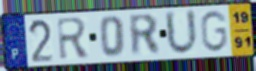0: (98, 14, 127, 59)
2: (27, 17, 55, 63)
G: (198, 9, 229, 54)
R: (55, 16, 92, 62), (127, 13, 163, 58)
U: (163, 8, 200, 58)
